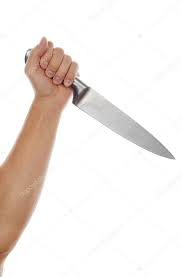knife: (18, 39, 176, 161)
